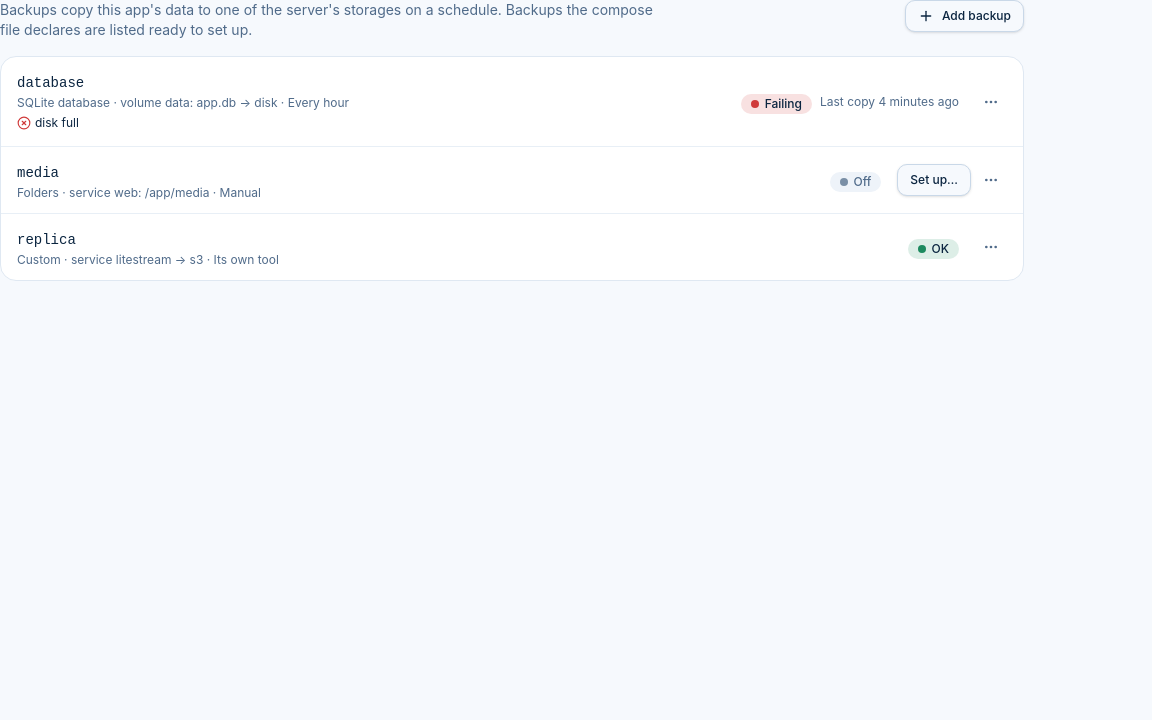
Test: AppBackups › edits a backup and opens its copies
Click the button named "Actions for database" at (991,102), box [975,86,1007,118]
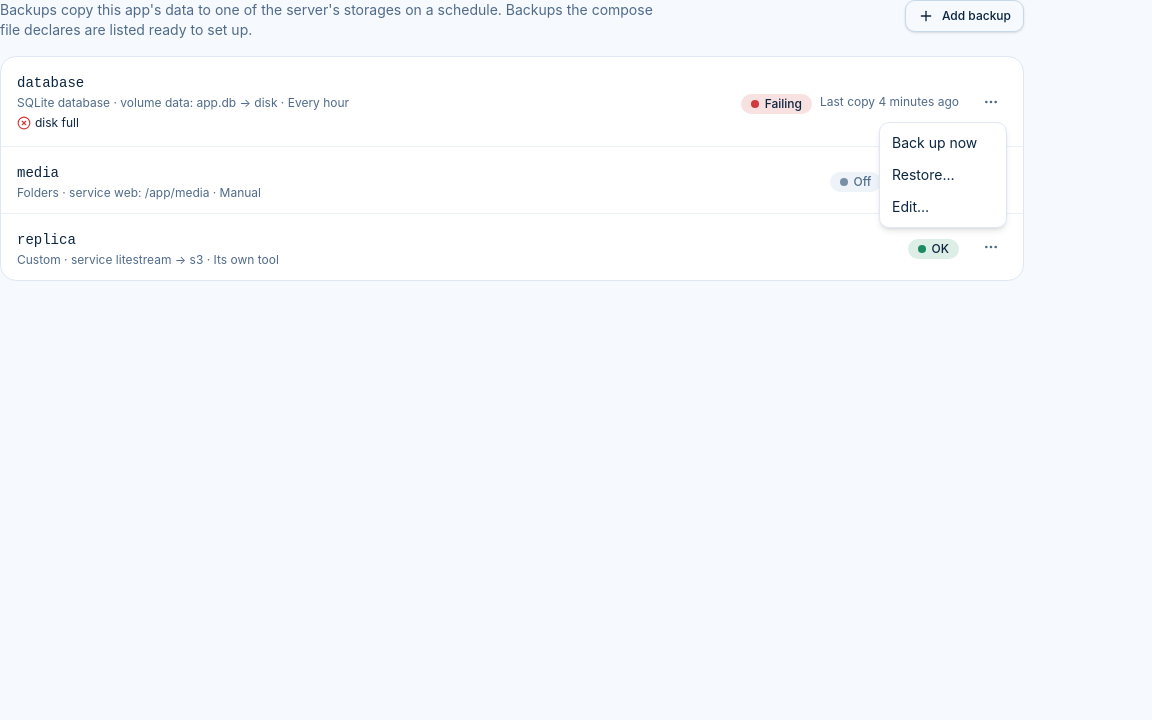
Click the menu item "Edit…" at (911,206), box [892,198,929,215]
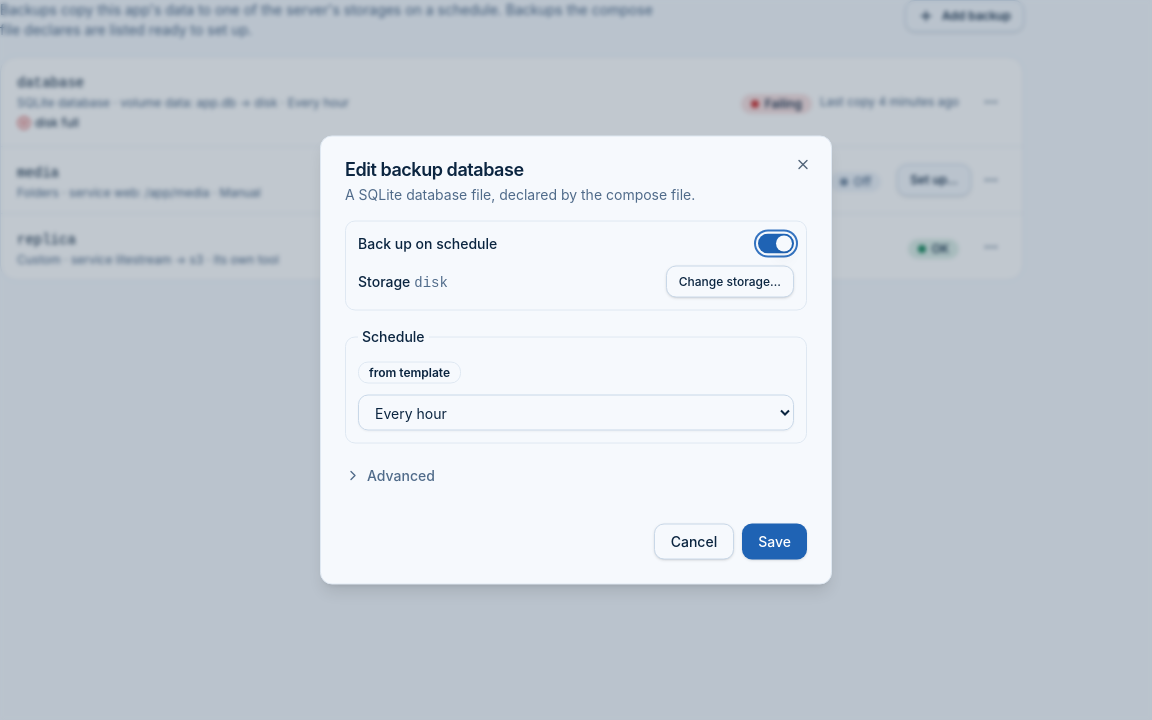
Select "Every 6 hours" in the dropdown named "Schedule" at (576,412), box [358,394,794,430]
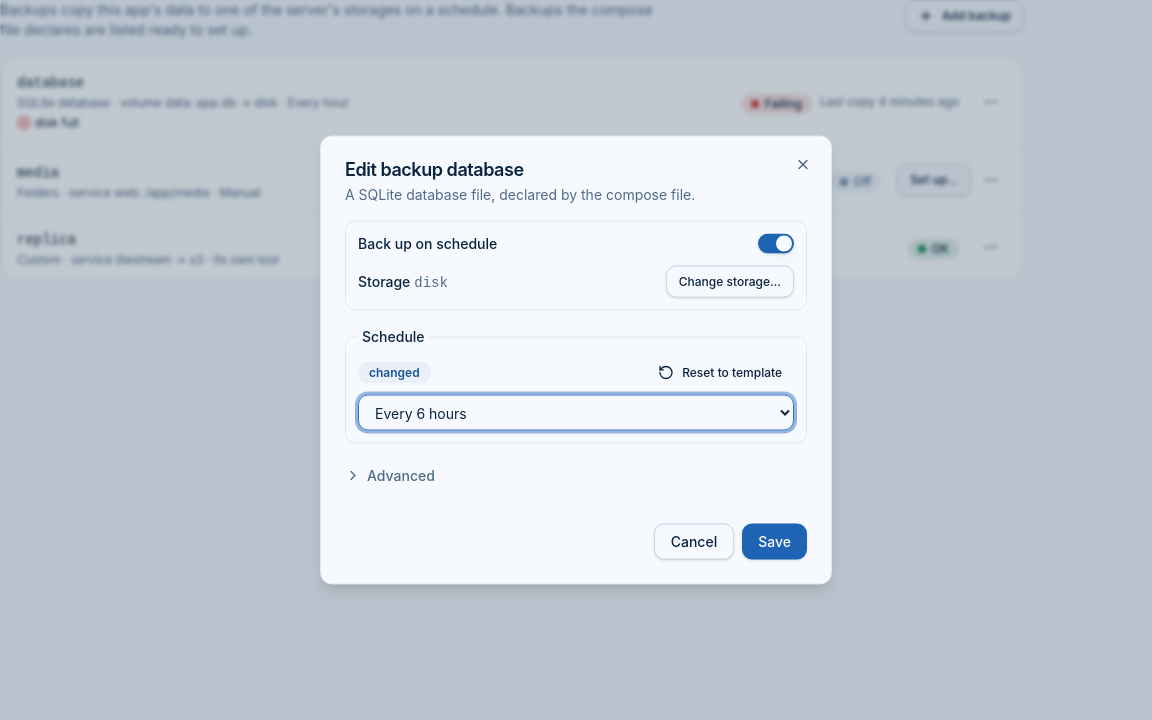
Click the button "Save" at (775,542), box [742,524,807,560]
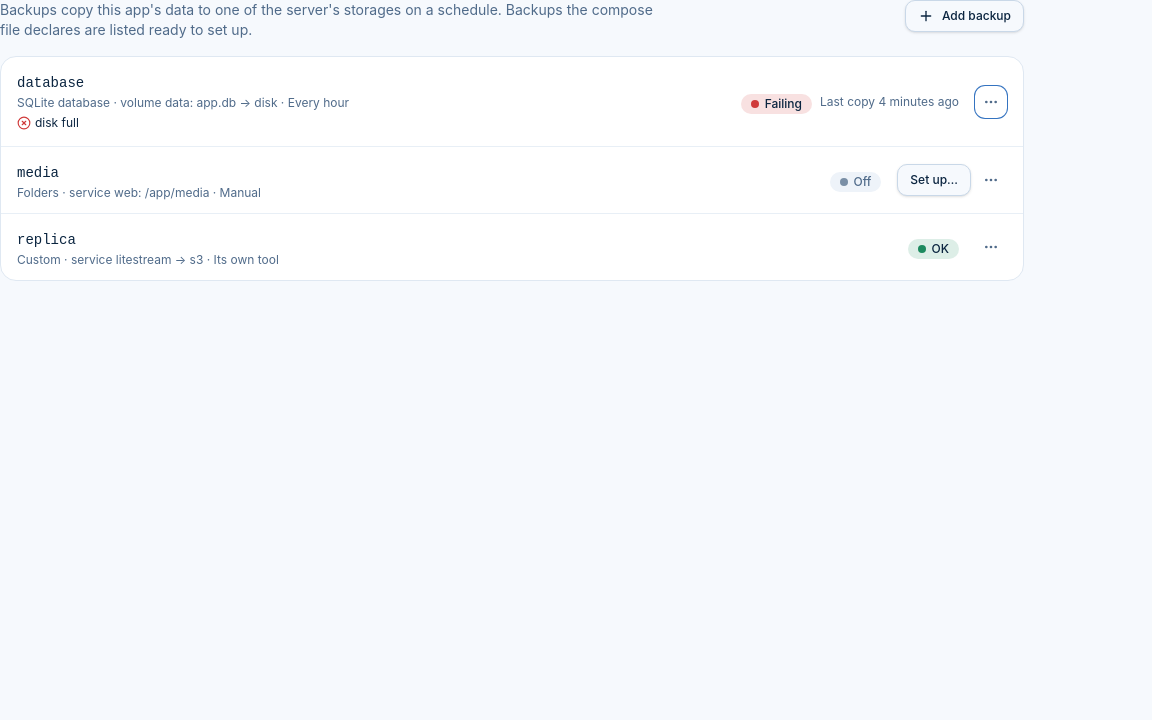
Now the dialog is gone
Click the button named "Actions for database" at (991,102), box [975,86,1007,118]
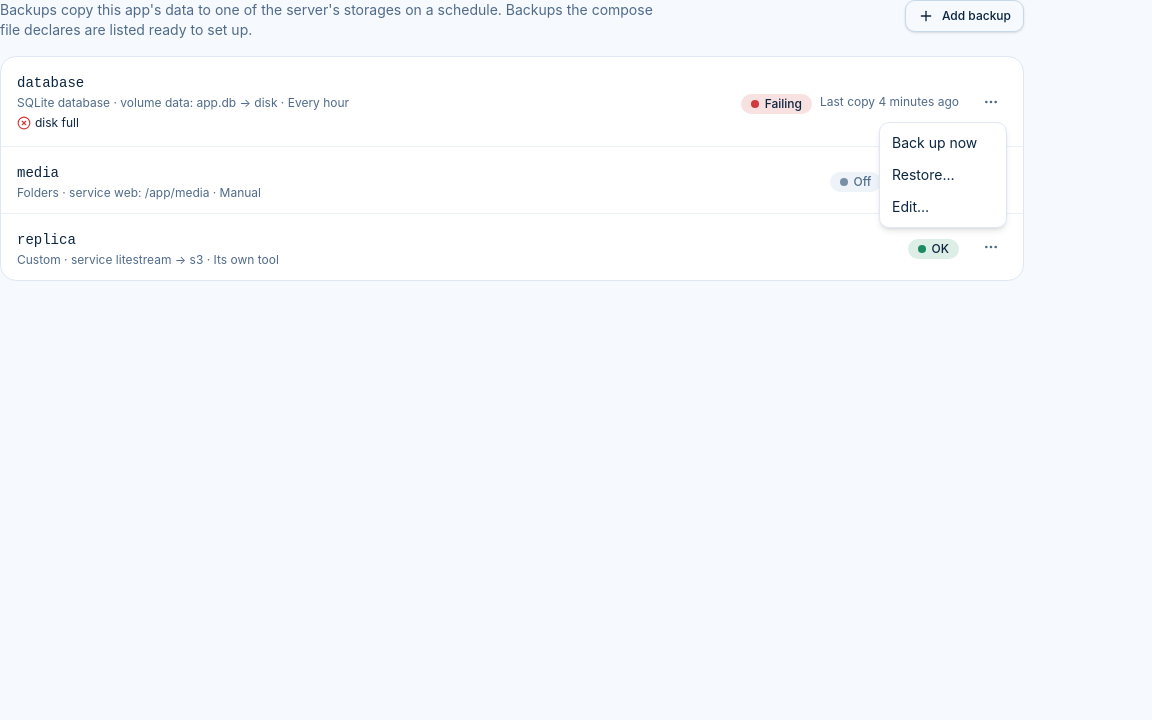
Click the menu item "Restore…" at (923,174), box [892,166,954,183]
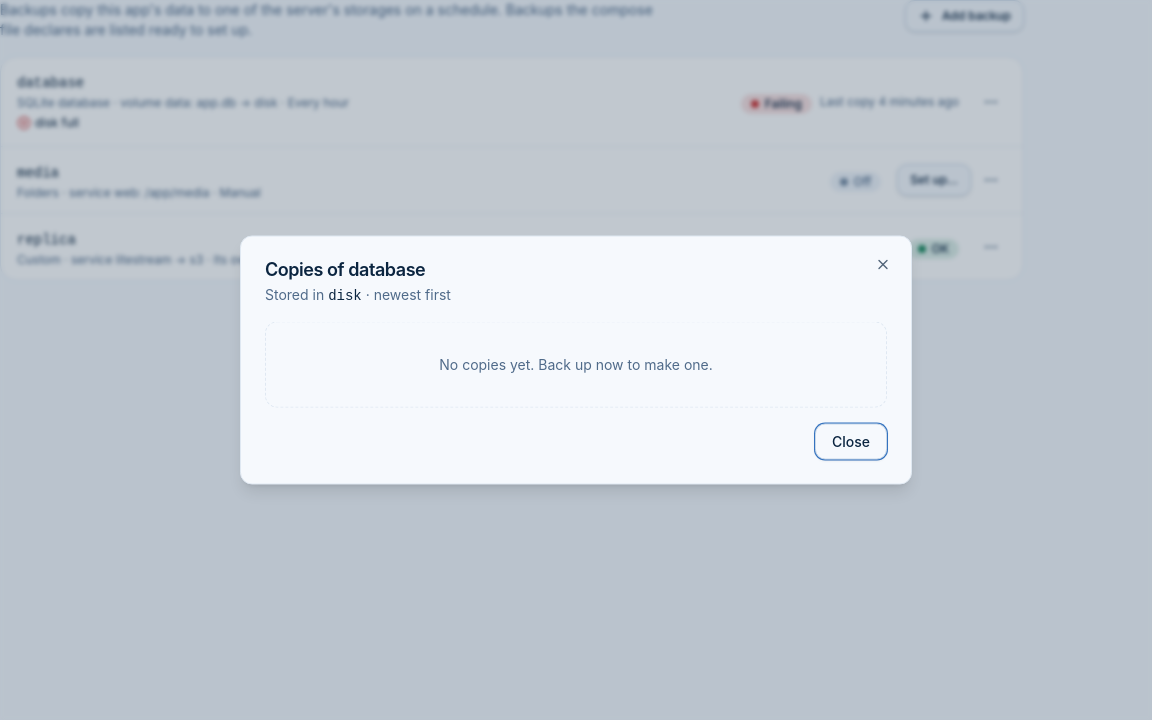
Now the text "No copies yet. Back up now to make one." is shown, box [265,322,887,408]
